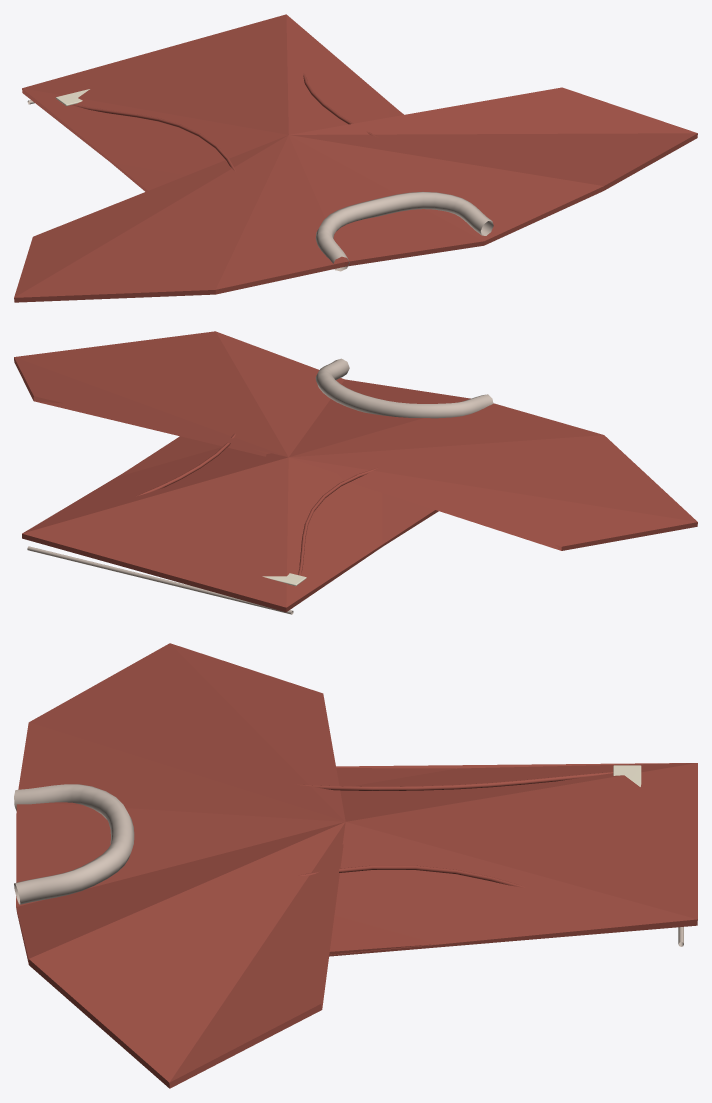
File: shirt_red.glb
The picture shows the model from 3 angles, top to bottom: view 1: azimuth 30°, elevation 25°; view 2: azimuth 150°, elevation 25°; view 3: azimuth 270°, elevation 25°; orthographic projection. The views are drawn at different scales.
Parts seen in each view (by area): view 1: shirt_red; view 2: shirt_red; view 3: shirt_red.
Part boxes in pixels (x1=…): shirt_red: x1=14, y1=14, x2=697, y2=302; shirt_red: x1=14, y1=331, x2=697, y2=614; shirt_red: x1=14, y1=643, x2=697, y2=1088.
Bounding box in the file's own units: 0.4405 × 0.0255 × 0.2915.
